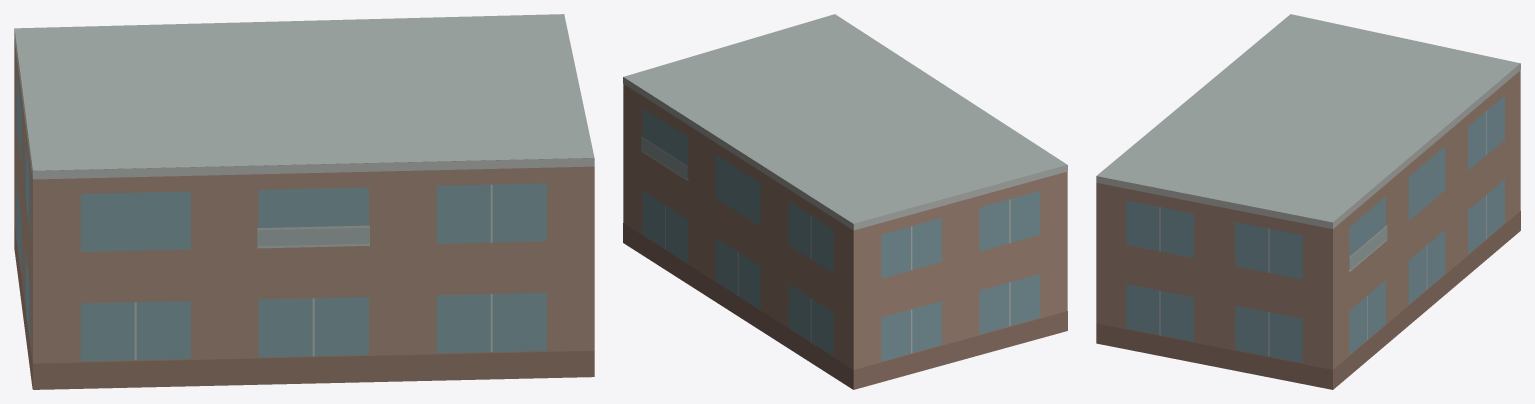
The model's file is survey-upis-32817827.glb.
3 views of the same model, side by side, from view 1: azimuth 30°, elevation 25°; view 2: azimuth 150°, elevation 25°; view 3: azimuth 270°, elevation 25° (orthographic). The views are drawn at different scales.
Visible parts, largest first — view 1: survey-upis-32817827.tmp; view 2: survey-upis-32817827.tmp; view 3: survey-upis-32817827.tmp.
Part boxes in pixels (x1,y1,x2,y2): survey-upis-32817827.tmp: (14, 14, 594, 389); survey-upis-32817827.tmp: (623, 14, 1067, 389); survey-upis-32817827.tmp: (1096, 14, 1520, 389).
Bounding box in the file's own units: 16.3 × 6.1 × 14.03.
